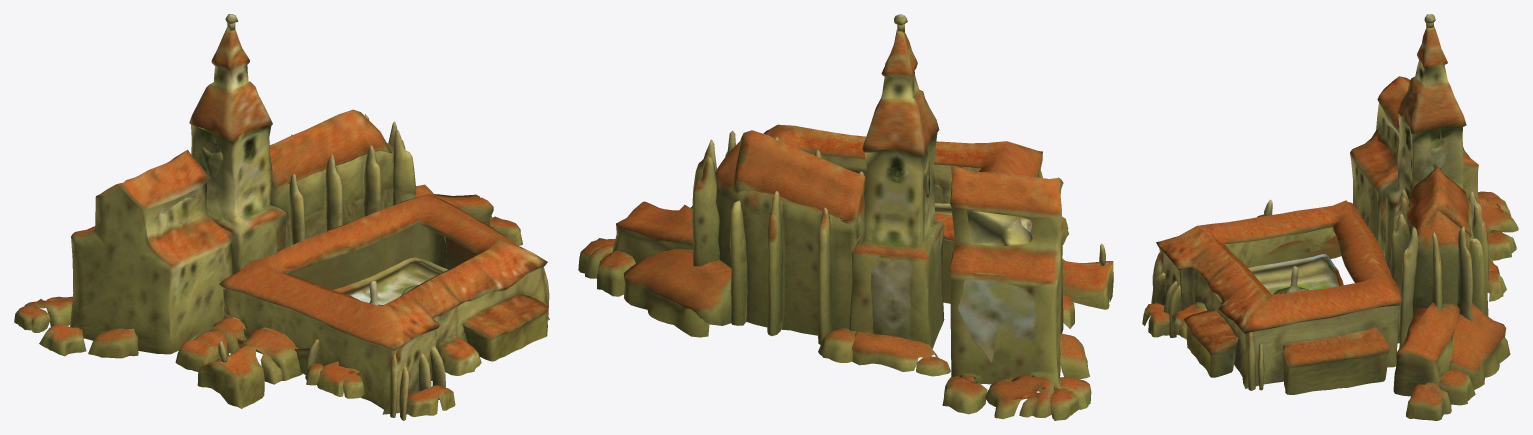
The model's file is site_monastery.glb.
3 views of the same model, side by side, from view 1: azimuth 30°, elevation 25°; view 2: azimuth 150°, elevation 25°; view 3: azimuth 270°, elevation 25° (orthographic). The views are drawn at different scales.
Size of the model in its own units: 1 by 0.6292 by 0.7425.
1 material, 1 textured.
